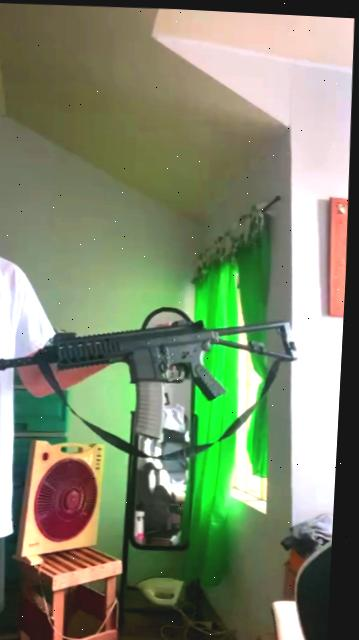rifle: (0, 294, 313, 459)
